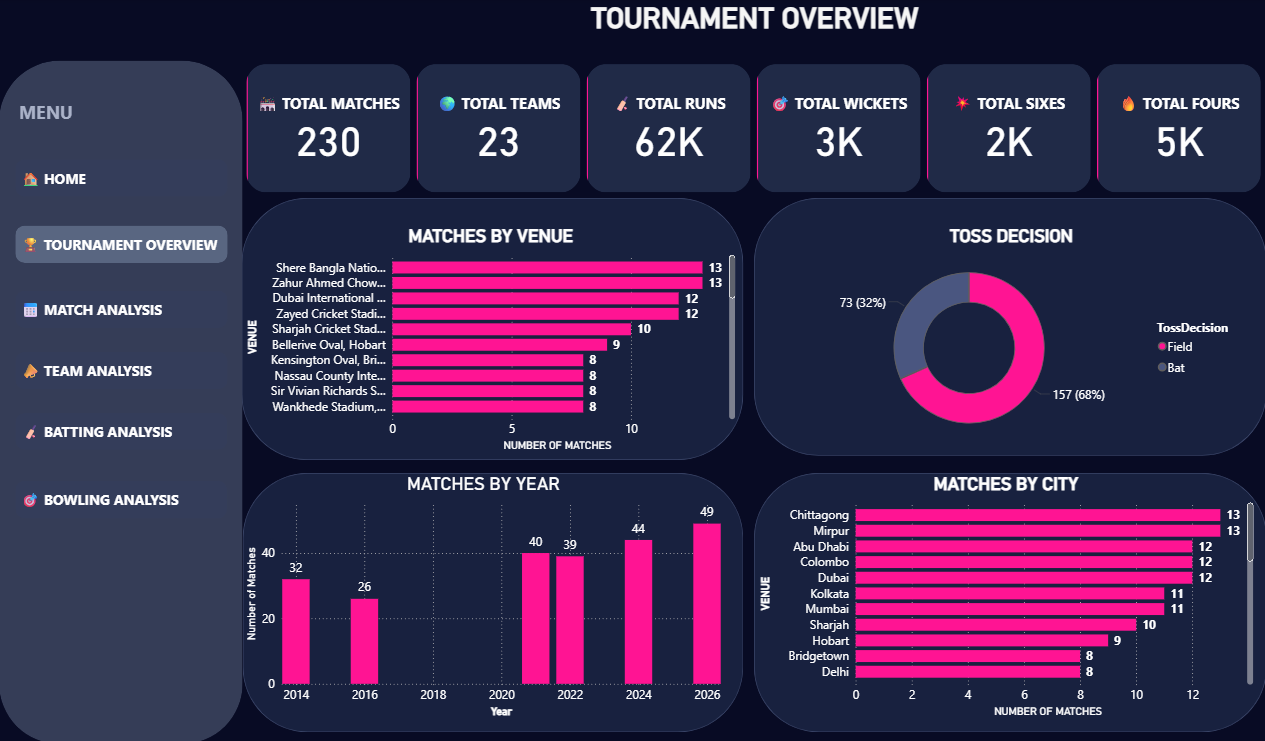

Layout of this report page (visuals, bound fields, positions):
{"tool":"powerbi","page":{"name":"Tournament Overview","canvas":[1700,1000],"ordinal":1},"visuals":[{"type":"shape","box":[325.2,267.9,672.6,351.1],"z":0},{"type":"textbox","box":[326.7,0,1372.3,72.1],"z":1000},{"type":"shape","box":[1012.6,267.9,687.4,345.5],"z":2000},{"type":"shape","box":[0,83.8,326.7,916.6],"z":3000},{"type":"shape","box":[327.1,637.5,670.8,347.4],"z":4000},{"type":"textbox","box":[21.8,132.4,196,43.6],"z":5000},{"type":"shape","box":[1012.6,637.5,687.4,347.4],"z":6000},{"type":"actionButton","box":[21.8,216.2,284.9,50.3],"z":7000},{"type":"actionButton","box":[21.8,305,284.9,50.3],"z":8000},{"type":"cardVisual","fields":{"Data":["matches.Total Matches","Count(Teams_Team1.Team)","Sum(batting_summary.Runs)","Sum(new_bowling_summary.TotalWickets)","Sum(batting_summary.Sixes)","Sum(batting_summary.Fours)"]},"box":[326.7,83.8,1372.3,182.6],"z":9000},{"type":"clusteredBarChart","title":"MATCHES BY VENUE","fields":{"Category":["matches.Venue"],"Y":["CountNonNull(matches.MatchID)"]},"box":[327.1,304.9,665.2,308.6],"z":10000},{"type":"actionButton","box":[21.8,474.2,284.9,50.3],"z":11000},{"type":"actionButton","box":[21.8,392.1,284.9,50.3],"z":12000},{"type":"actionButton","box":[21.9,555.9,284.3,49.2],"z":13000},{"type":"actionButton","box":[21.9,647,284.3,51],"z":14000},{"type":"columnChart","title":"MATCHES BY YEAR","fields":{"Y":["CountNonNull(matches.MatchID)"],"Category":["matches.Year"]},"box":[325.2,637.5,648.6,332.6],"z":15000},{"type":"clusteredBarChart","title":"MATCHES BY CITY","fields":{"Y":["CountNonNull(matches.MatchID)"],"Category":["venues.City"]},"box":[1014.5,637.5,672.6,332.6],"z":16000},{"type":"donutChart","title":"TOSS DECISION","fields":{"Y":["CountNonNull(matches.MatchID)"],"Category":["matches.TossDecision"]},"box":[1044,304.9,626.4,301.2],"z":17000}]}

Visuals, with their boxes in screenshot pixels (x1, y1, x2, y2), scaled from the page's 1700x1000 canvas onto the 1265x741 screenshot:
shape: (x1=242, y1=199, x2=742, y2=459)
textbox: (x1=243, y1=0, x2=1264, y2=53)
shape: (x1=753, y1=199, x2=1264, y2=455)
shape: (x1=0, y1=62, x2=243, y2=740)
shape: (x1=243, y1=472, x2=743, y2=730)
textbox: (x1=16, y1=98, x2=162, y2=130)
shape: (x1=753, y1=472, x2=1264, y2=730)
actionButton: (x1=16, y1=160, x2=228, y2=197)
actionButton: (x1=16, y1=226, x2=228, y2=263)
cardVisual - matches.Total Matches x Count(Teams_Team1.Team): (x1=243, y1=62, x2=1264, y2=197)
"MATCHES BY VENUE" clusteredBarChart: (x1=243, y1=226, x2=738, y2=455)
actionButton: (x1=16, y1=351, x2=228, y2=389)
actionButton: (x1=16, y1=291, x2=228, y2=328)
actionButton: (x1=16, y1=412, x2=228, y2=448)
actionButton: (x1=16, y1=479, x2=228, y2=517)
"MATCHES BY YEAR" columnChart: (x1=242, y1=472, x2=725, y2=719)
"MATCHES BY CITY" clusteredBarChart: (x1=755, y1=472, x2=1255, y2=719)
"TOSS DECISION" donutChart: (x1=777, y1=226, x2=1243, y2=449)
